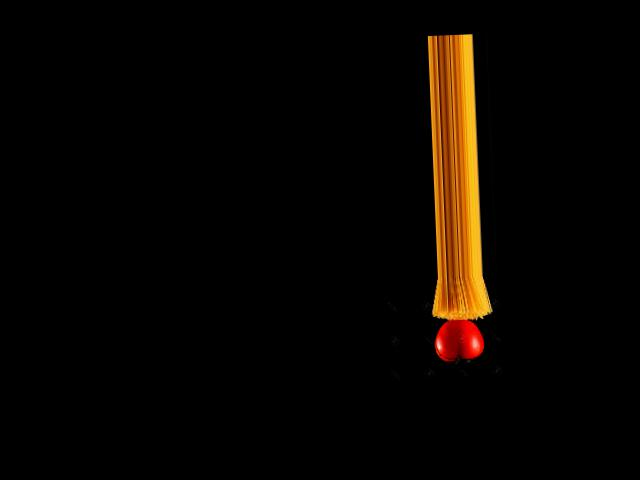tomato: (434, 318, 485, 362)
